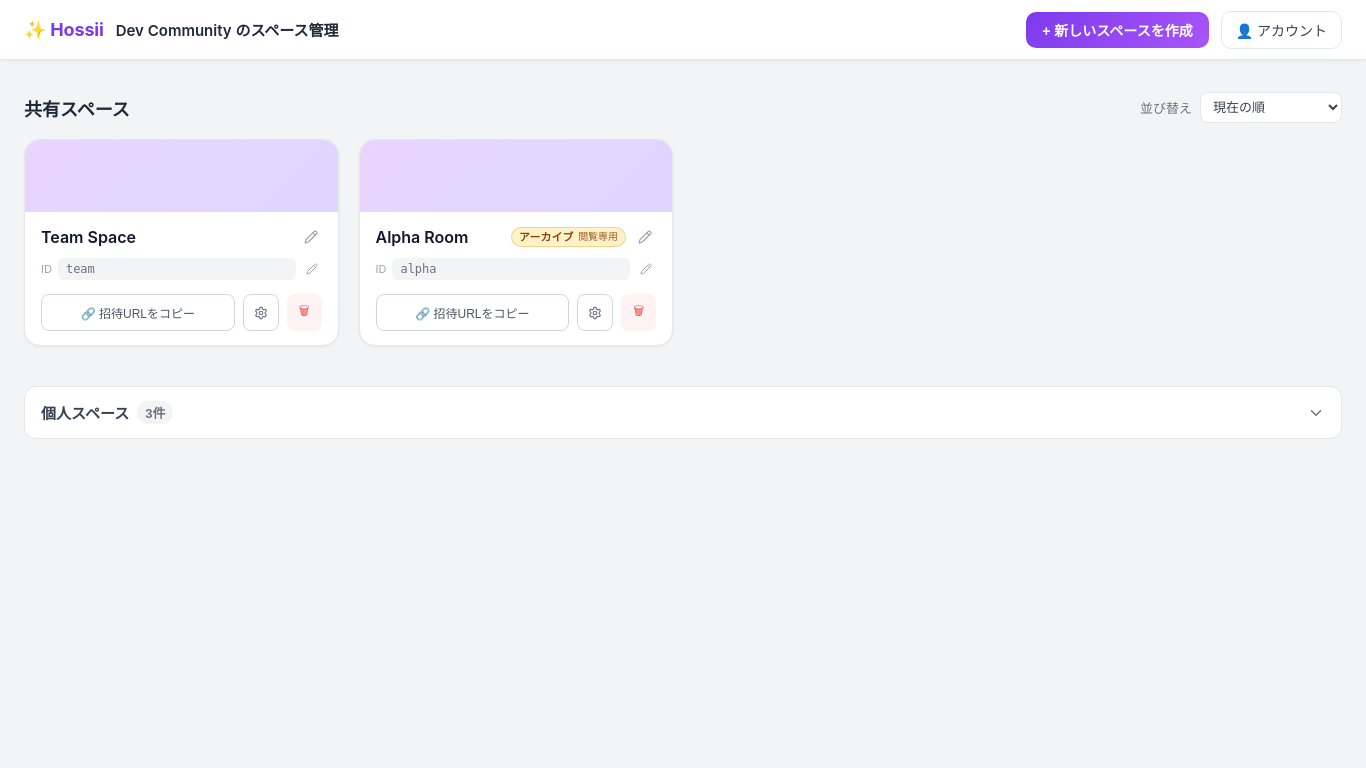
Test: SpacesScreen admin search and sort › 名前で検索できる
Click the button "個人スペース 3件".
click(85, 414)  # box [24,386,1342,439]
(page scrolled)
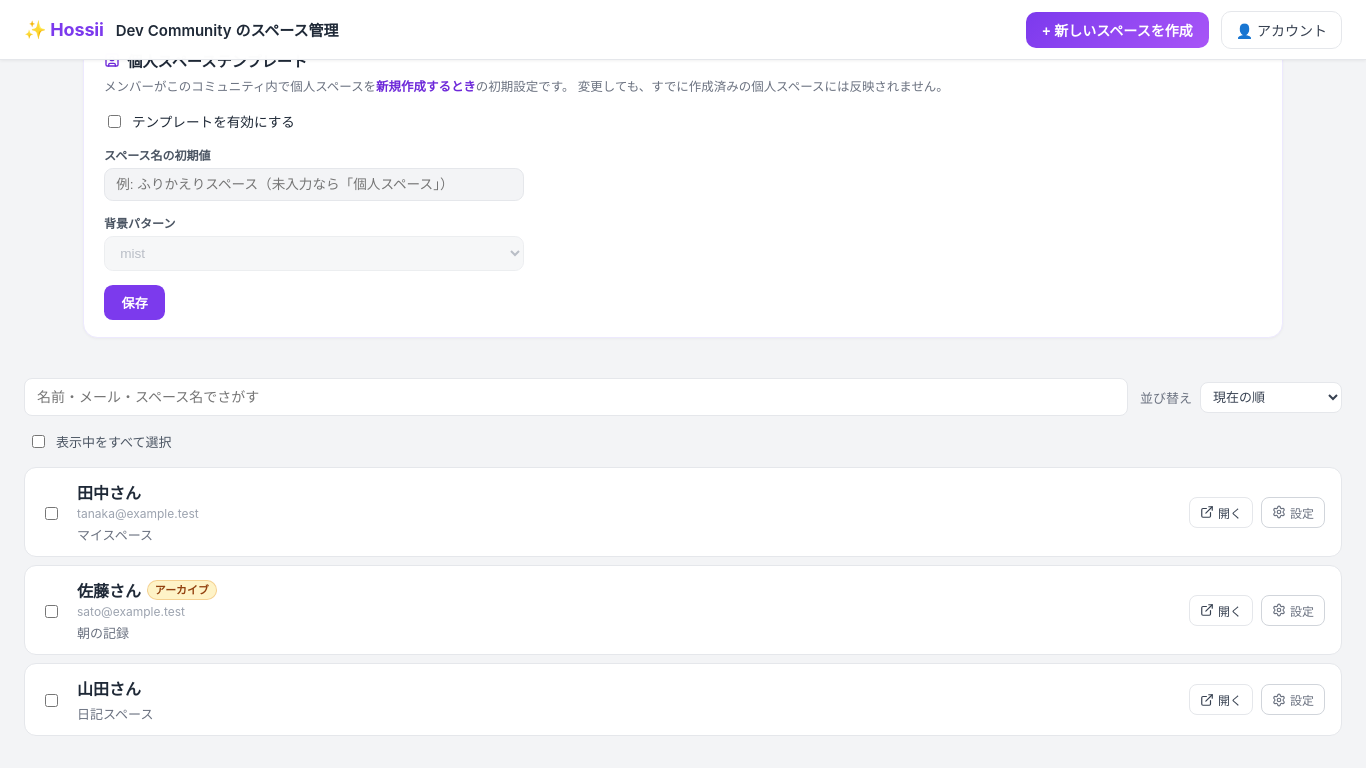
expect the search field named "個人スペースを検索" is shown: met
Type "田中" into the search field named "個人スペースを検索".
click(576, 397); type("田中")  # box [24,378,1128,416]
(page scrolled)
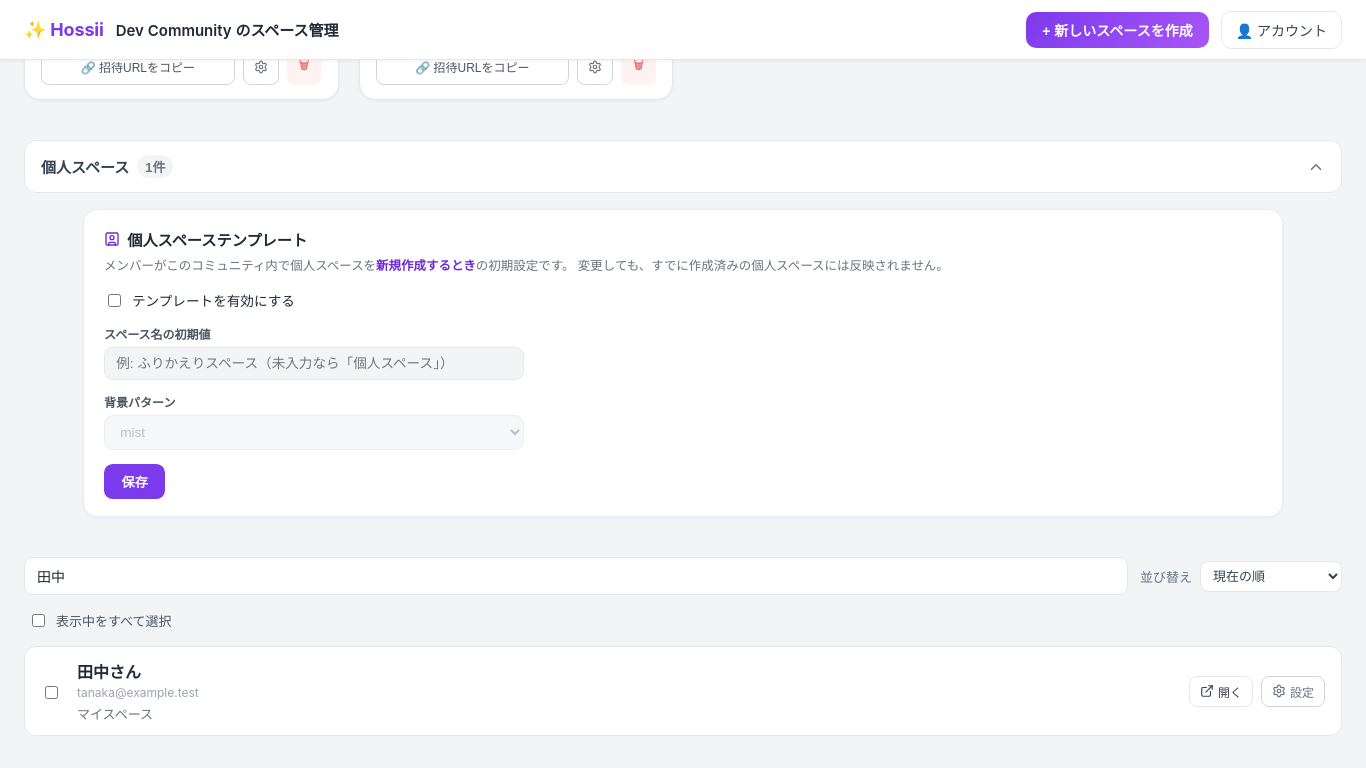
expect the text "田中さん" is shown: met, box [77,659,141,683]
expect the text "山田さん" is gone: met
expect the text "1件" is shown: met, box [137,155,174,178]
